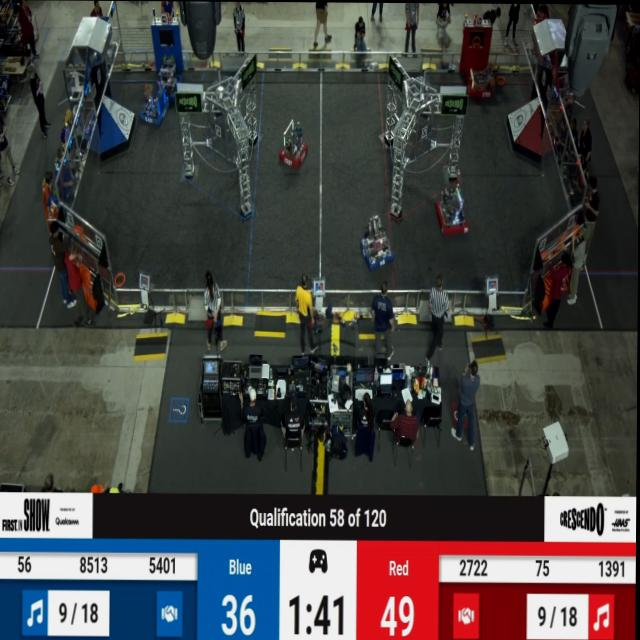Robot: (360, 213, 394, 274), (435, 184, 471, 240), (139, 81, 174, 131), (278, 117, 309, 173), (464, 59, 495, 100), (156, 46, 184, 91)
